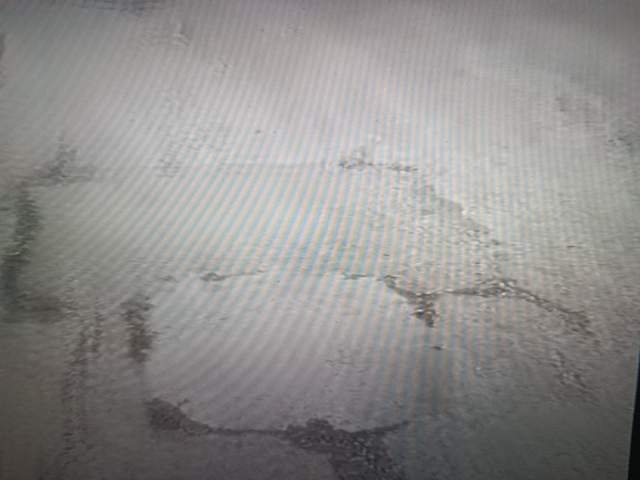pothole: (113, 403, 338, 480)
